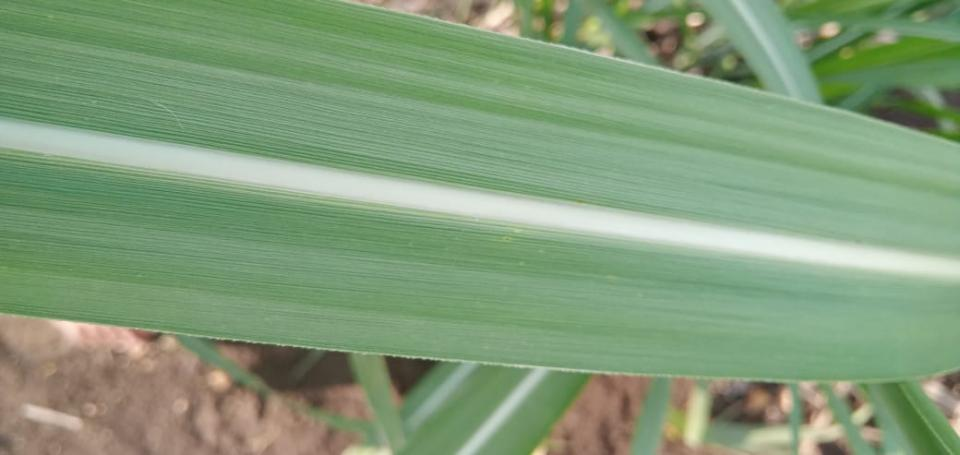Healthy: (0, 0, 959, 256), (0, 147, 959, 380)
